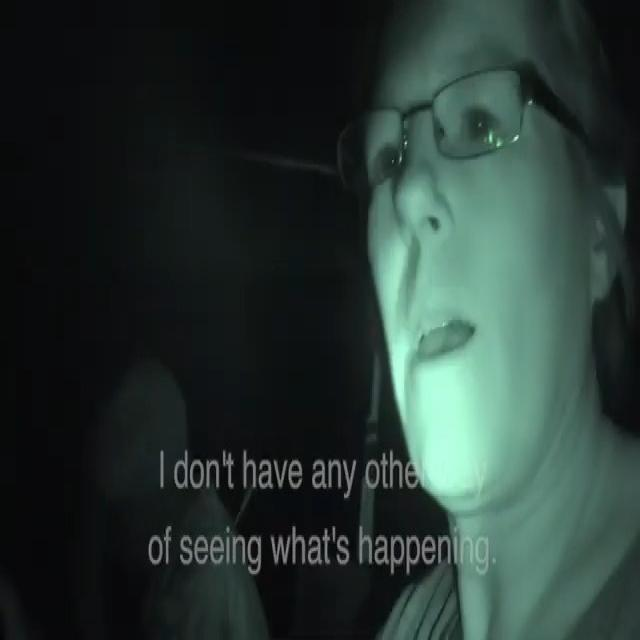human: (330, 0, 640, 640)
